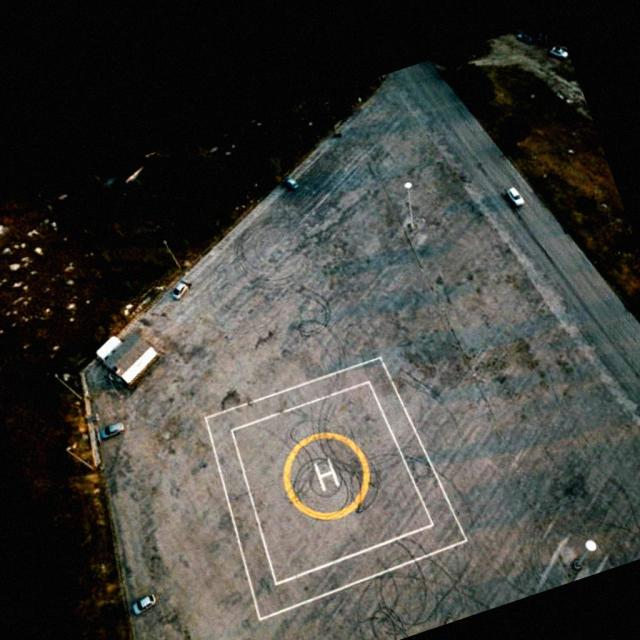helipad: (278, 429, 372, 522)
